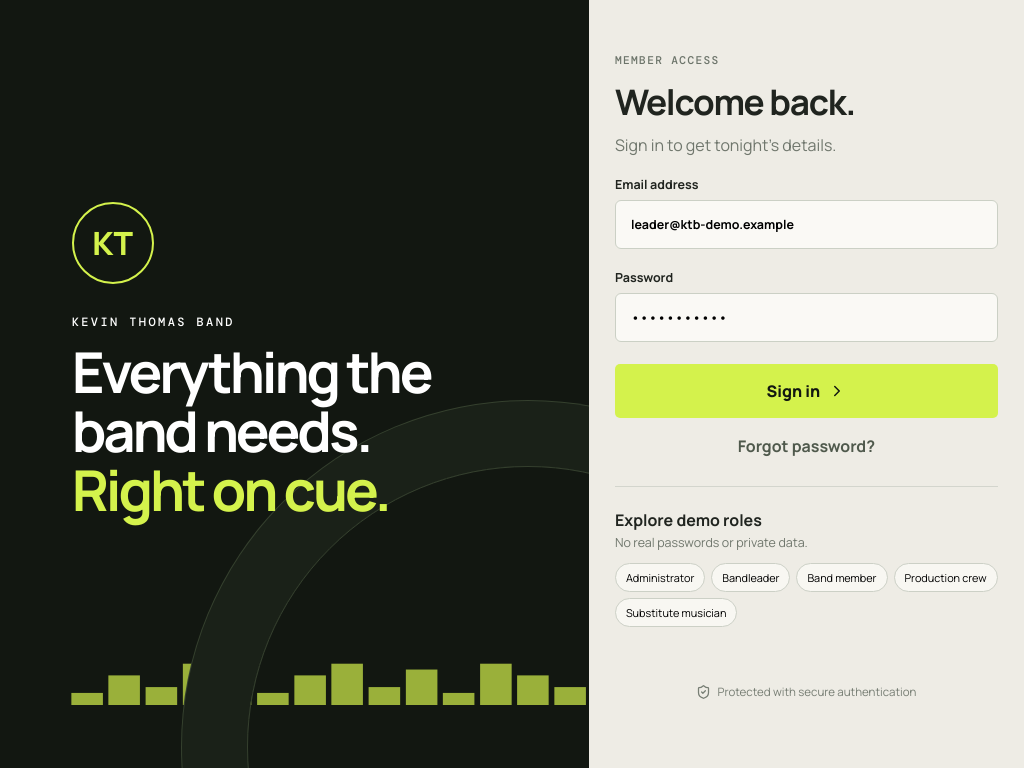
Test: Band Hub › supports password-reset view
Click the button "Forgot password?" at (806, 446), box left=732, top=434, right=881, bottom=458
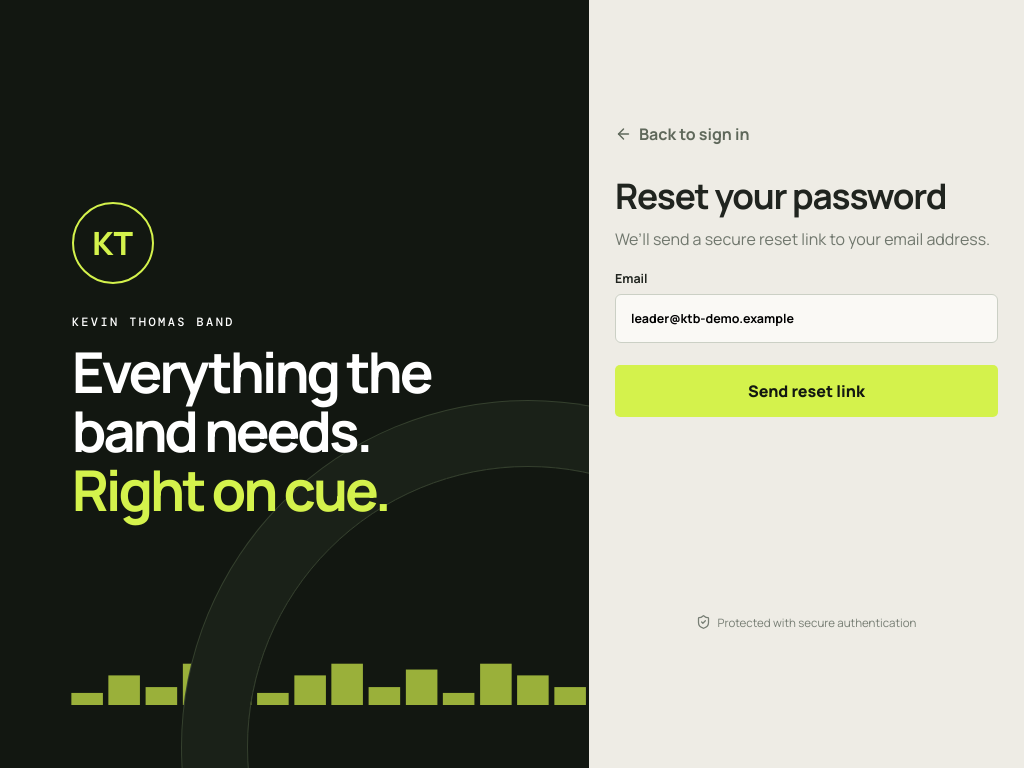
Now the heading "Reset your password" is shown, box left=615, top=171, right=998, bottom=220
